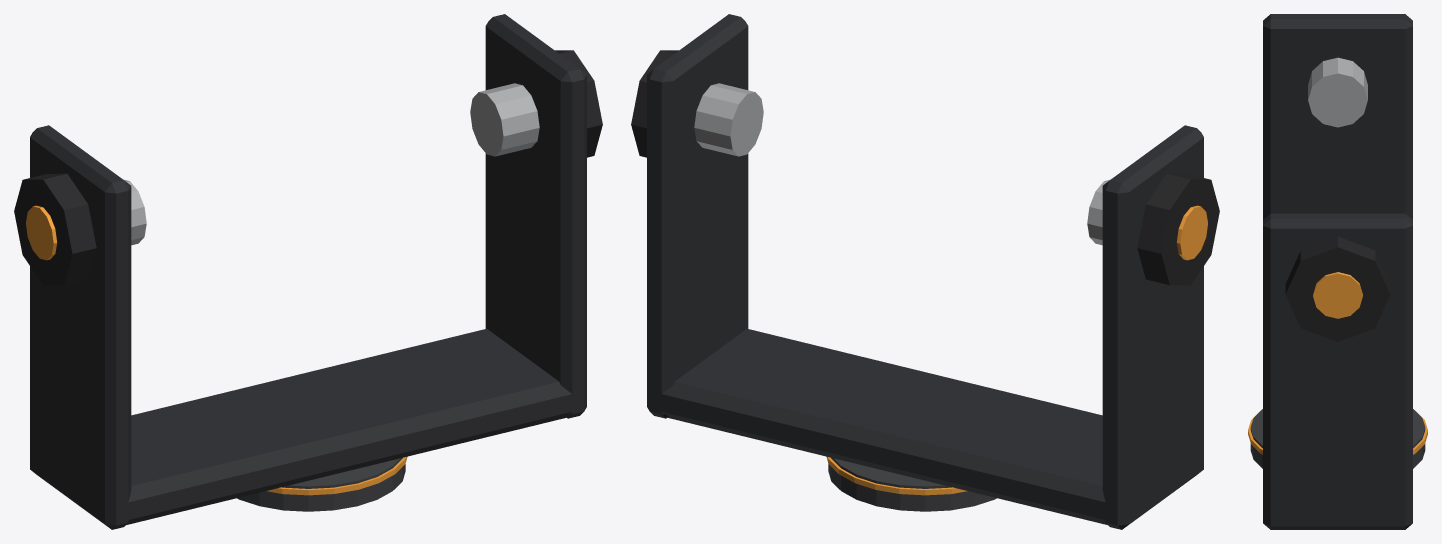
Rendered from csc_followspot_f1_yoke.obj.
The picture shows the model from 3 angles, left to right: view 1: azimuth 30°, elevation 25°; view 2: azimuth 150°, elevation 25°; view 3: azimuth 270°, elevation 25°; orthographic projection. The views are drawn at different scales.
Visible parts, largest first — view 1: yoke_csc_2f3033, yoke_csc_272729, yoke_csc_adafb1, yoke_csc_3f4043, yoke_csc_f9a238; view 2: yoke_csc_2f3033, yoke_csc_272729, yoke_csc_adafb1, yoke_csc_3f4043, yoke_csc_f9a238; view 3: yoke_csc_2f3033, yoke_csc_272729, yoke_csc_adafb1, yoke_csc_f9a238, yoke_csc_3f4043.
Part boxes in pixels (x1,y1,x2,y2): yoke_csc_2f3033: [30, 14, 586, 529]; yoke_csc_272729: [14, 50, 602, 285]; yoke_csc_adafb1: [123, 83, 539, 245]; yoke_csc_3f4043: [237, 457, 405, 511]; yoke_csc_f9a238: [26, 205, 407, 495]; yoke_csc_2f3033: [647, 14, 1203, 529]; yoke_csc_272729: [631, 50, 1219, 285]; yoke_csc_adafb1: [694, 83, 1110, 245]; yoke_csc_3f4043: [828, 457, 996, 511]; yoke_csc_f9a238: [826, 205, 1207, 495]; yoke_csc_2f3033: [1263, 14, 1412, 529]; yoke_csc_272729: [1285, 236, 1390, 341]; yoke_csc_adafb1: [1308, 57, 1367, 127]; yoke_csc_f9a238: [1248, 272, 1427, 454]; yoke_csc_3f4043: [1250, 409, 1425, 468].
Bounding box in the file's own units: 0.6687 × 0.4424 × 0.2161.
